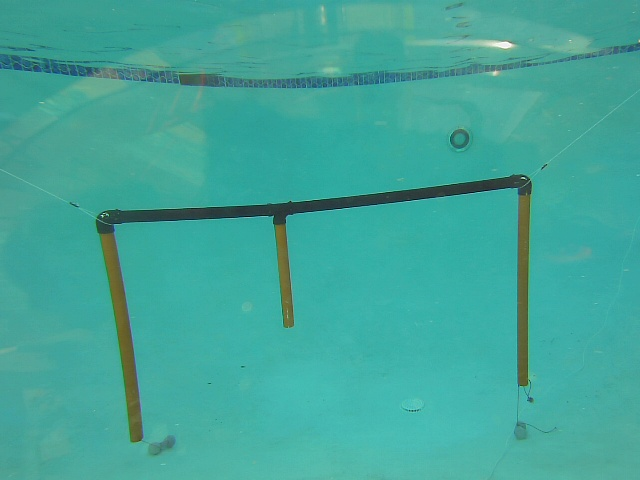Gate: (95, 225, 147, 449), (512, 189, 534, 390), (275, 218, 295, 333)
